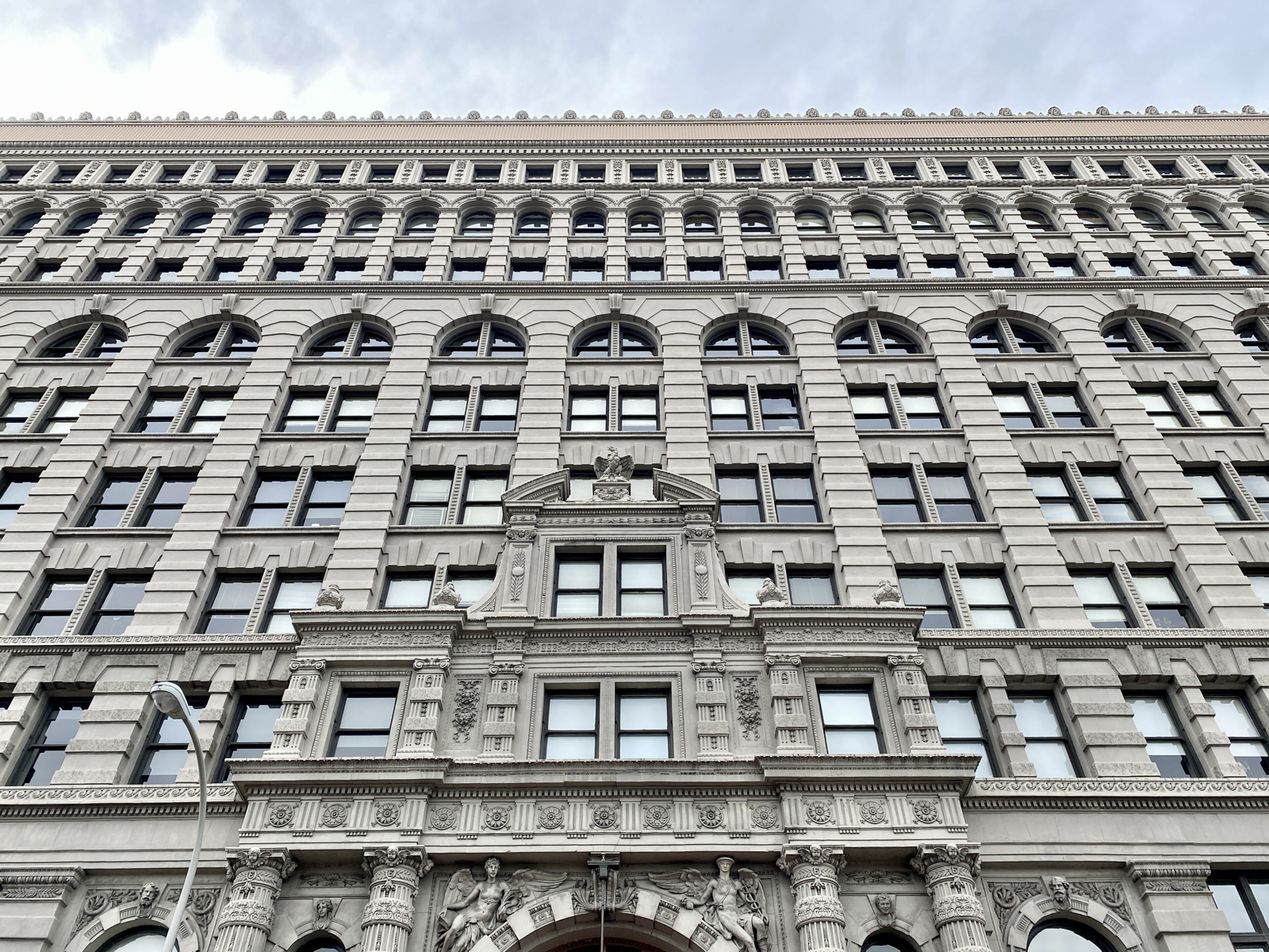fachada: (3, 116, 1269, 952)
poste: (127, 661, 243, 952)
